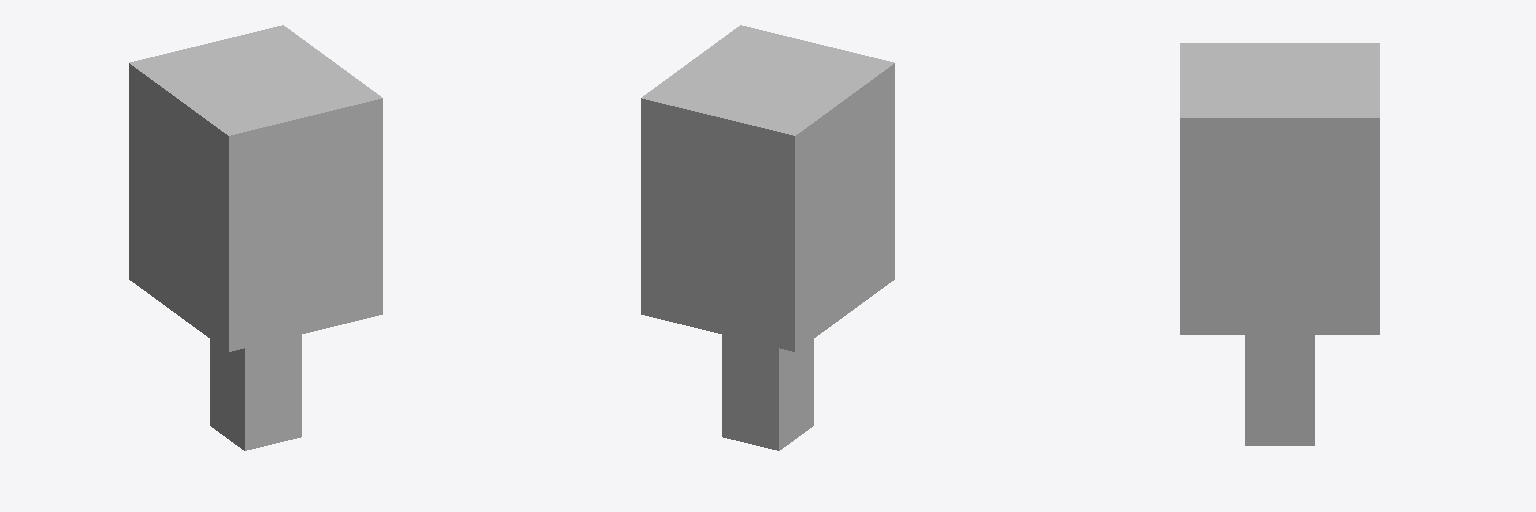
File: tree_collider.obj
3 views of the same model, side by side, from view 1: azimuth 30°, elevation 25°; view 2: azimuth 150°, elevation 25°; view 3: azimuth 270°, elevation 25° (orthographic).
Visible parts, largest first — view 1: Cube.001, Cube; view 2: Cube.001, Cube; view 3: Cube.001, Cube.
Boxes of the visible parts, box(x1,y1,x2,y2) form: Cube.001: box(129, 25, 382, 351); Cube: box(210, 334, 301, 450); Cube.001: box(641, 25, 894, 351); Cube: box(722, 334, 813, 450); Cube.001: box(1180, 43, 1379, 334); Cube: box(1245, 335, 1314, 445).
Size of the model in its own units: 2.76 by 5.98 by 3.08.